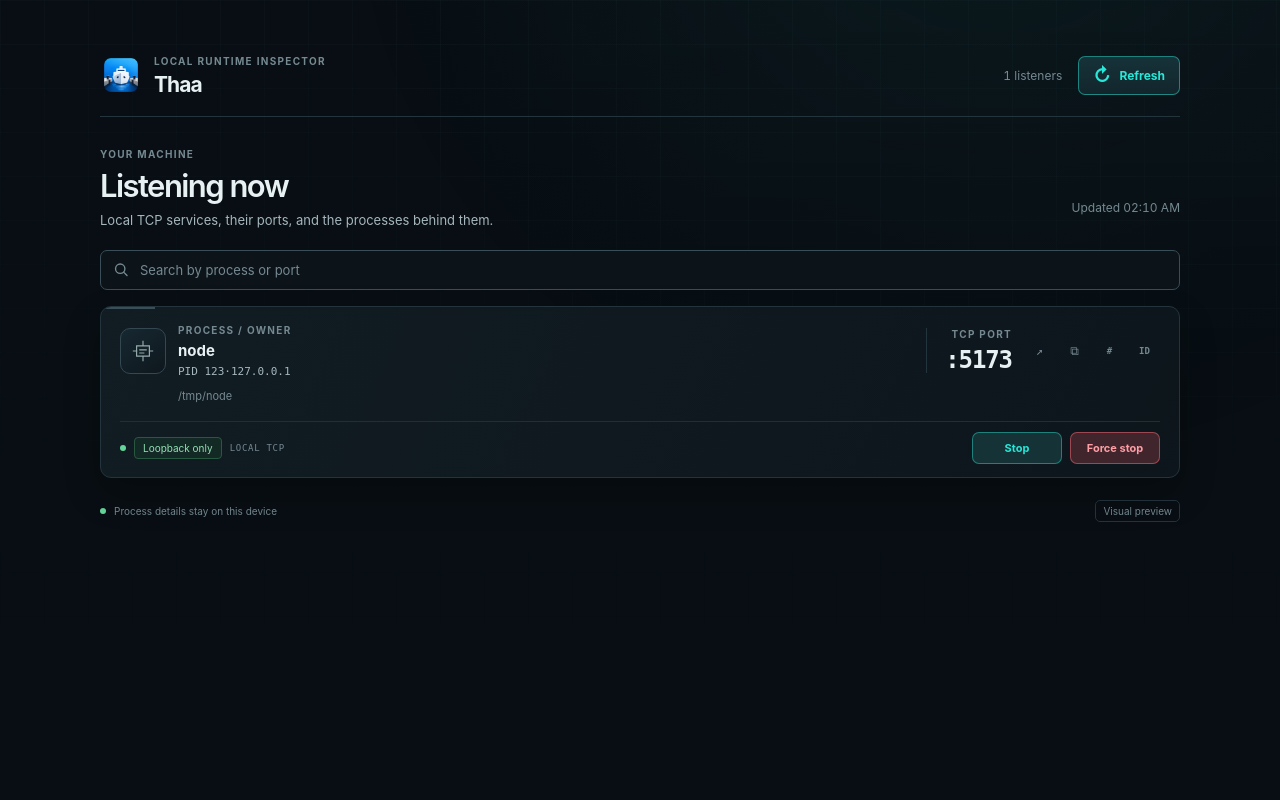
Test: runtime inspector › treats an already-exited result as stale data and observes again
Click the button "Stop".
click(1017, 448)  # box [972,432,1062,464]
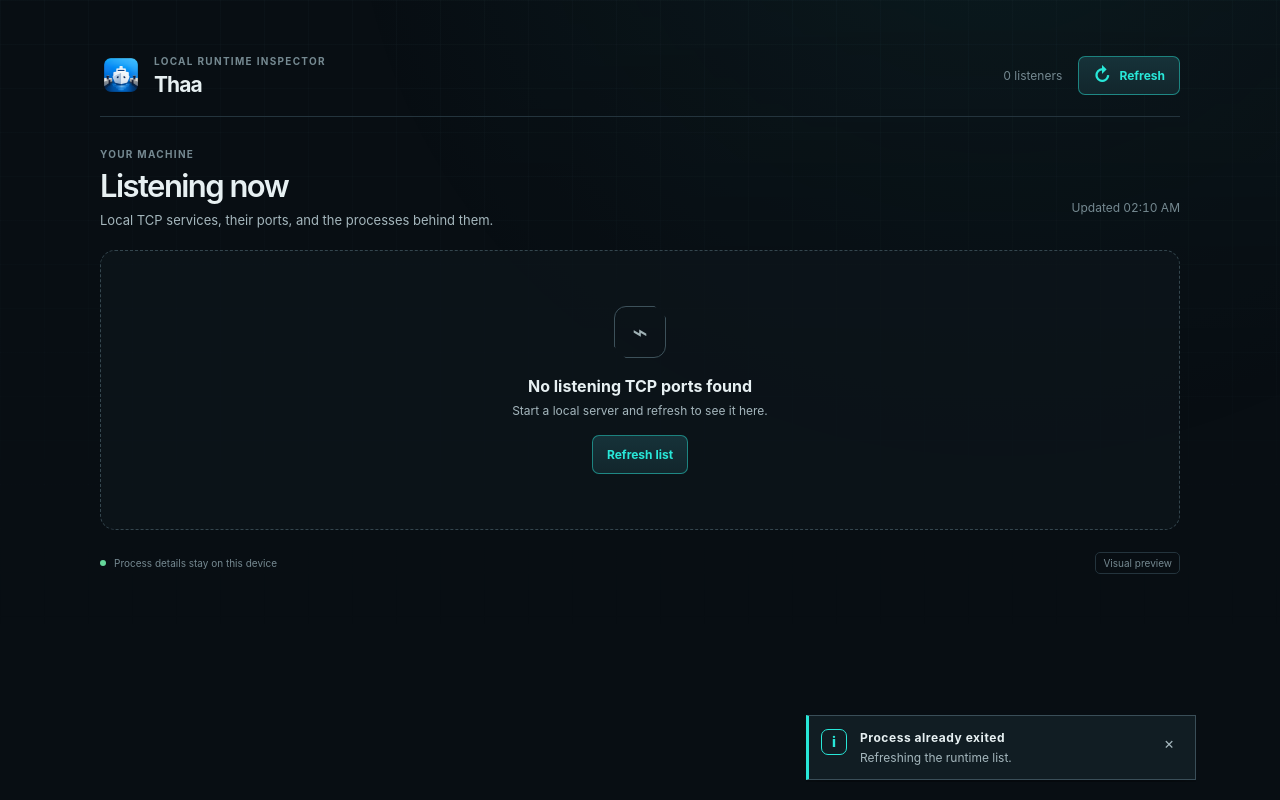
expect the heading "No listening TCP ports found" is shown: met, box [528,376,752,396]
expect the message shows "Process already exited": met, box [860,730,1005,745]
